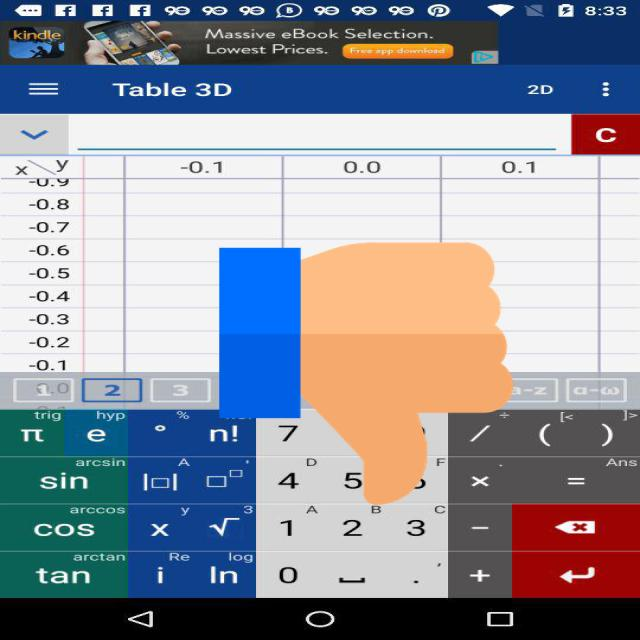obstruction: (219, 236, 513, 511)
